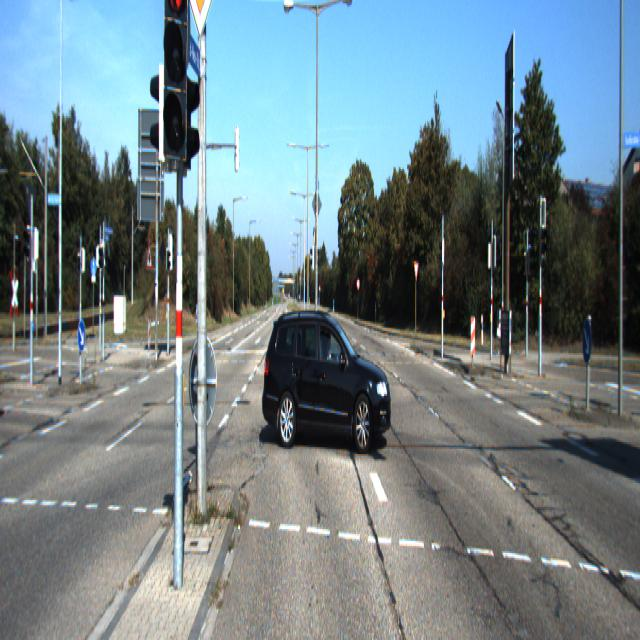Car: (261, 304, 392, 454)
